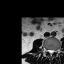CCS_normal: (49, 47, 52, 58)
LFS_normal: (54, 47, 56, 54)
LLS_normal: (52, 47, 54, 55)
RFS_normal: (45, 46, 47, 54)
RLS_normal: (47, 47, 49, 54)
